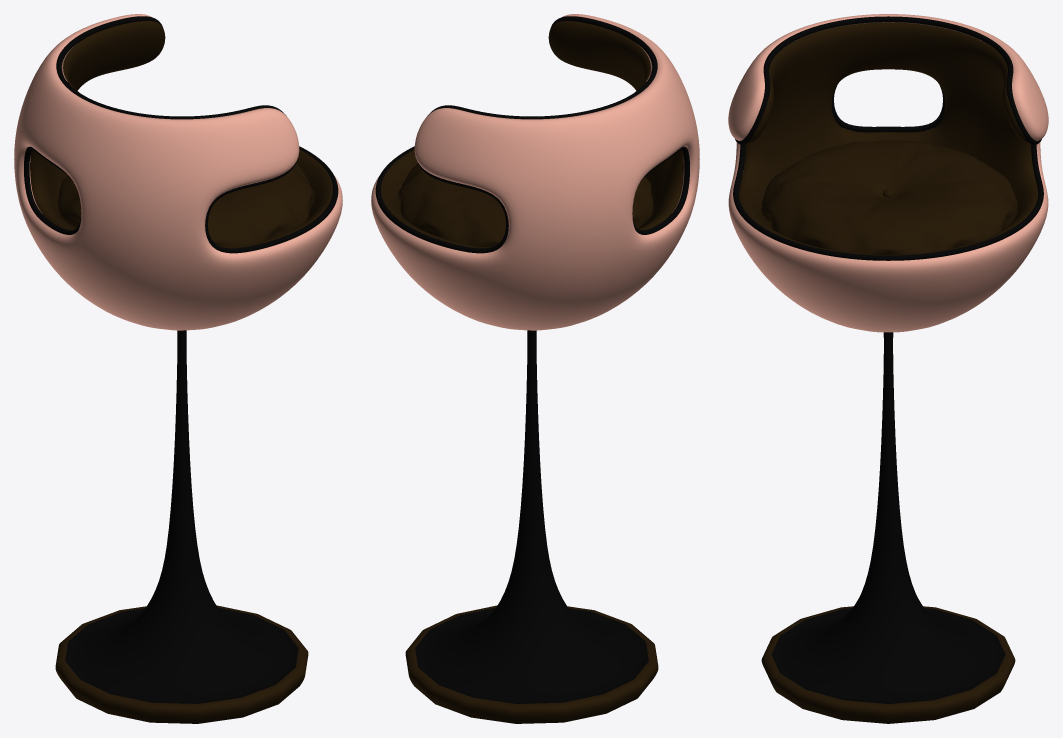
File: chair.gltf
3 renders of one model, left to right at view 1: azimuth 30°, elevation 25°; view 2: azimuth 150°, elevation 25°; view 3: azimuth 270°, elevation 25°, orthographic.
Visible parts, largest first — view 1: Sphere, Plane, Sphere.001, Cylinder, Sphere.002, Sphere.003; view 2: Sphere, Plane, Sphere.001, Cylinder, Sphere.002, Sphere.003; view 3: Plane, Sphere.001, Sphere, Cylinder, Sphere.002, Sphere.003.
Boxes of the visible parts, x1=… form: Sphere: x1=14, y1=14, x2=342, y2=330; Plane: x1=55, y1=330, x2=308, y2=723; Sphere.001: x1=30, y1=21, x2=332, y2=248; Cylinder: x1=58, y1=163, x2=314, y2=246; Sphere.002: x1=56, y1=16, x2=338, y2=253; Sphere.003: x1=24, y1=146, x2=81, y2=234; Sphere: x1=371, y1=14, x2=699, y2=330; Plane: x1=405, y1=330, x2=658, y2=723; Sphere.001: x1=381, y1=21, x2=683, y2=248; Cylinder: x1=398, y1=163, x2=653, y2=246; Sphere.002: x1=375, y1=16, x2=657, y2=253; Sphere.003: x1=632, y1=146, x2=689, y2=234; Plane: x1=761, y1=332, x2=1015, y2=723; Sphere.001: x1=738, y1=22, x2=1038, y2=255; Sphere: x1=728, y1=14, x2=1048, y2=332; Cylinder: x1=761, y1=140, x2=1017, y2=254; Sphere.002: x1=733, y1=16, x2=1043, y2=260; Sphere.003: x1=831, y1=86, x2=945, y2=132.
Bounding box in the file's own units: 1.99 × 4.15 × 1.99.
